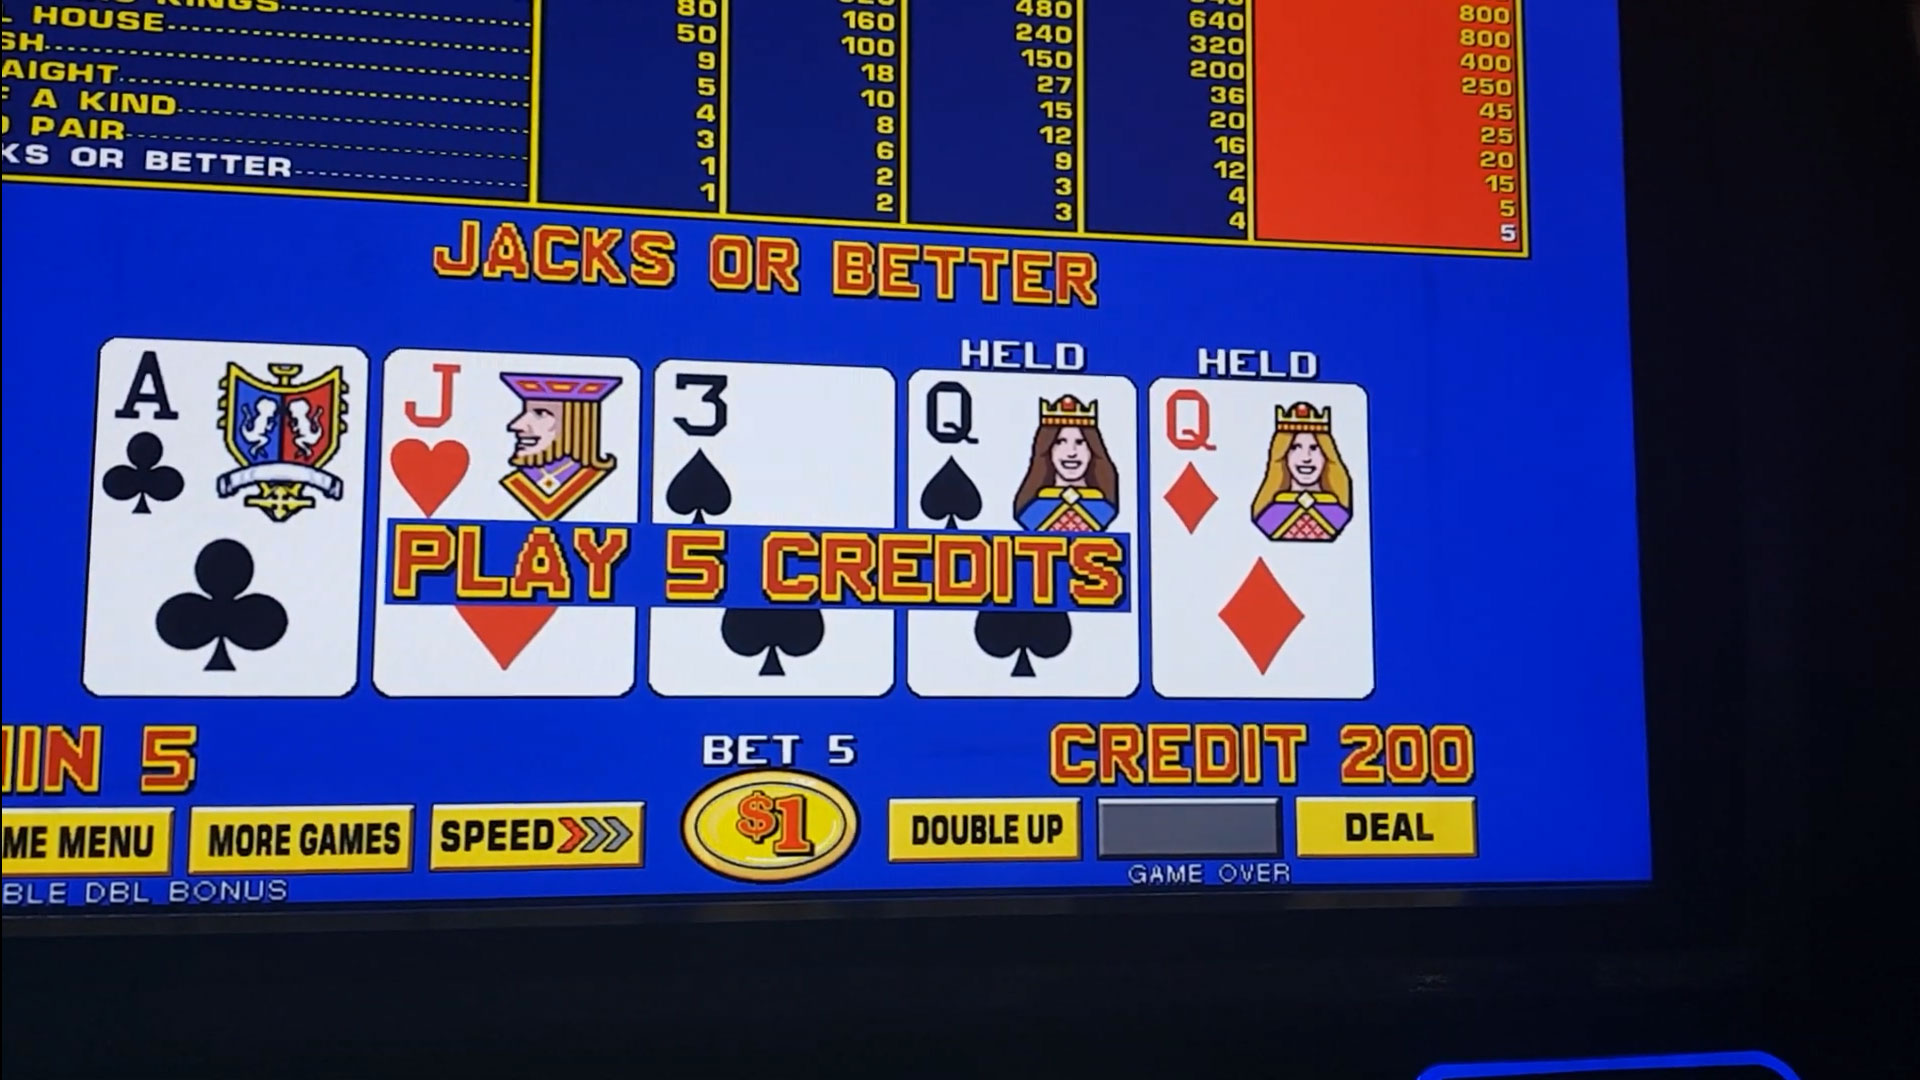CA: (102, 352, 357, 522)
DQ: (1153, 382, 1360, 553)
HJ: (386, 361, 632, 517)
S3: (661, 371, 886, 521)
SQ: (913, 385, 1133, 525)
